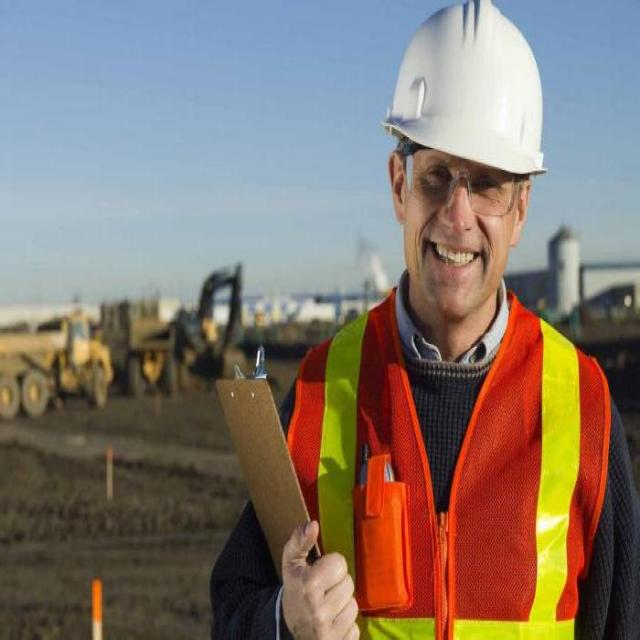Reflective-Jacket: (273, 294, 616, 630)
Safety-Helmet: (379, 2, 552, 184)
